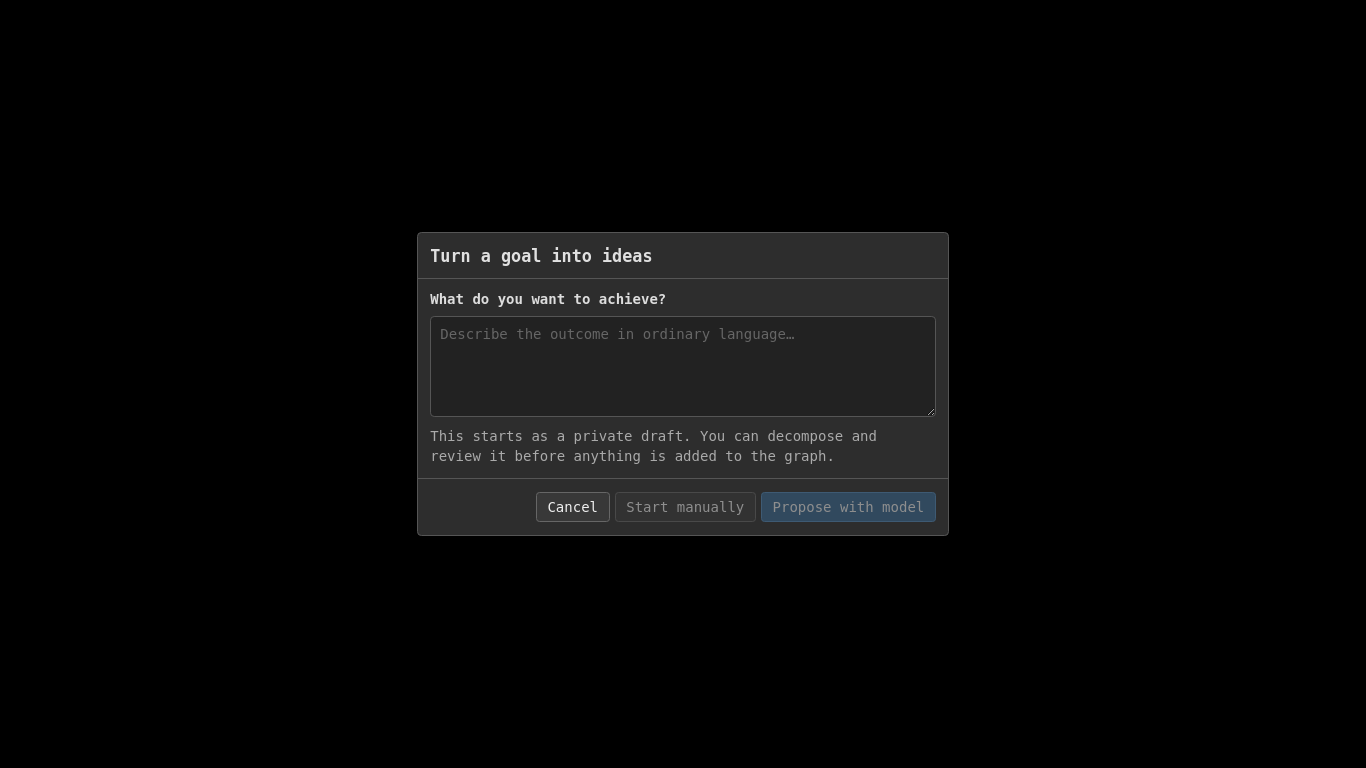
it: IdeaProposalEntry › turns ordinary text into a transient editable root without writing
The width and height of the screenshot is (1366, 768).
Check: the button "Start manually" is disabled, box [615, 492, 756, 522]
Type "Make festival volunteer coordination reliable" into the text box labelled "What do you want to achieve?". click: (683, 366)
box: [430, 316, 936, 416]
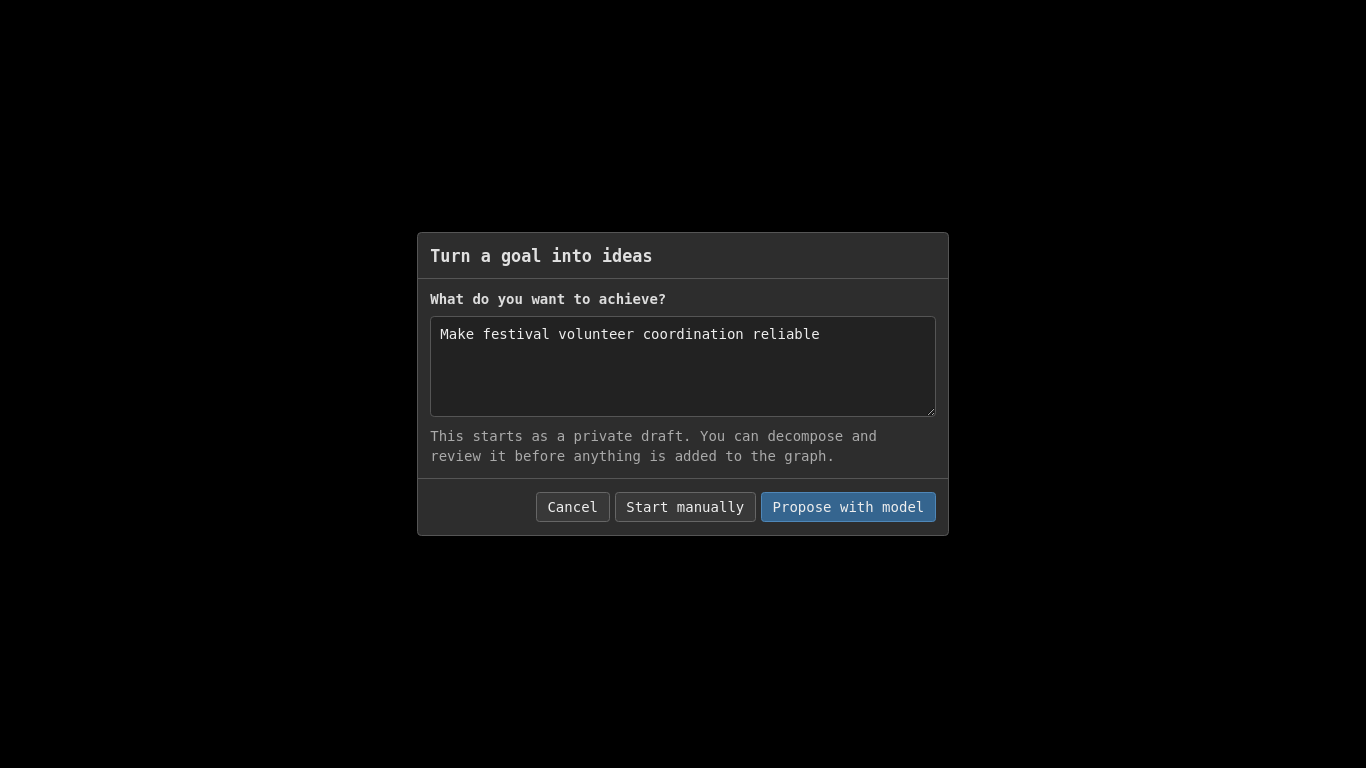
Click the button "Start manually". click: (685, 507)
box: [615, 492, 756, 522]
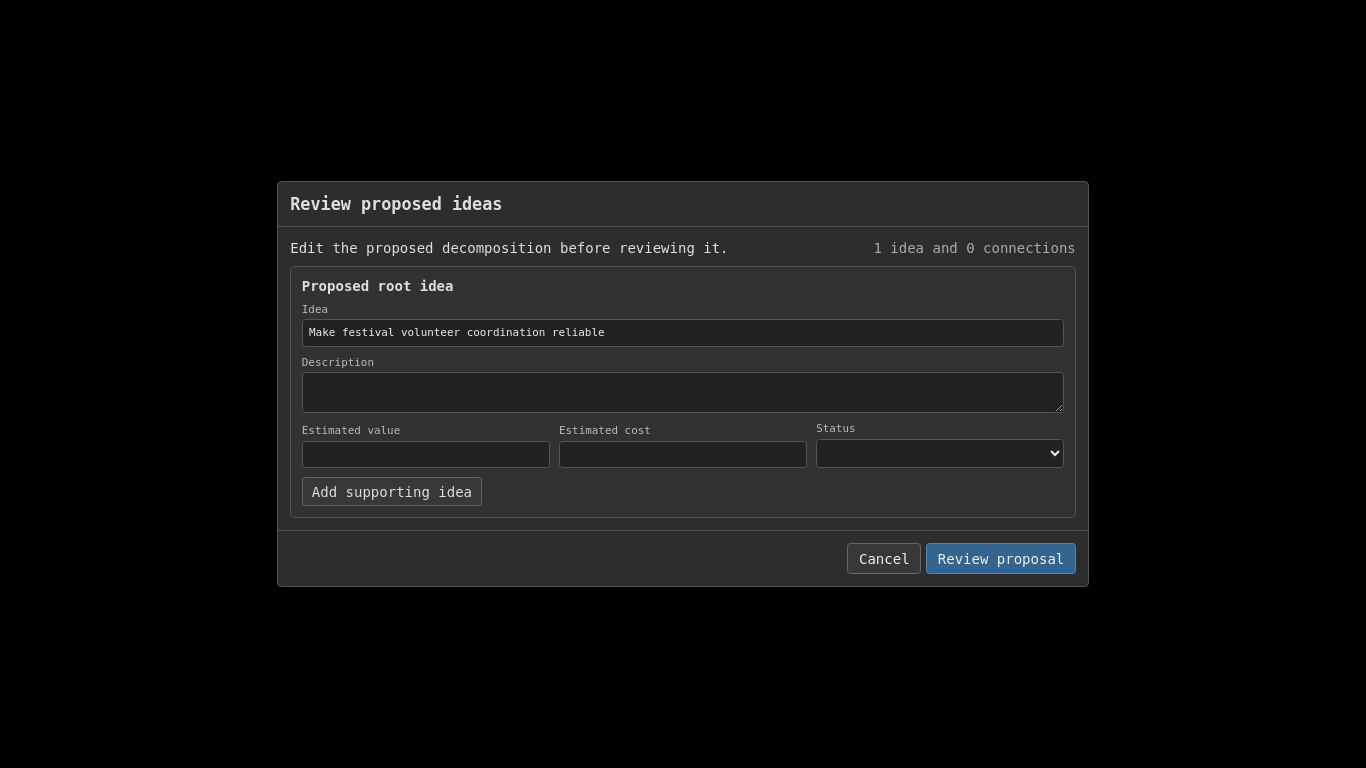
Check: the text "Review proposed ideas" is shown, box [290, 194, 502, 214]
Check: the field labelled "Idea" holds "Make festival volunteer coordination reliable", box [302, 319, 1064, 347]
Check: the text "1 idea and 0 connections" is shown, box [874, 240, 1076, 256]
